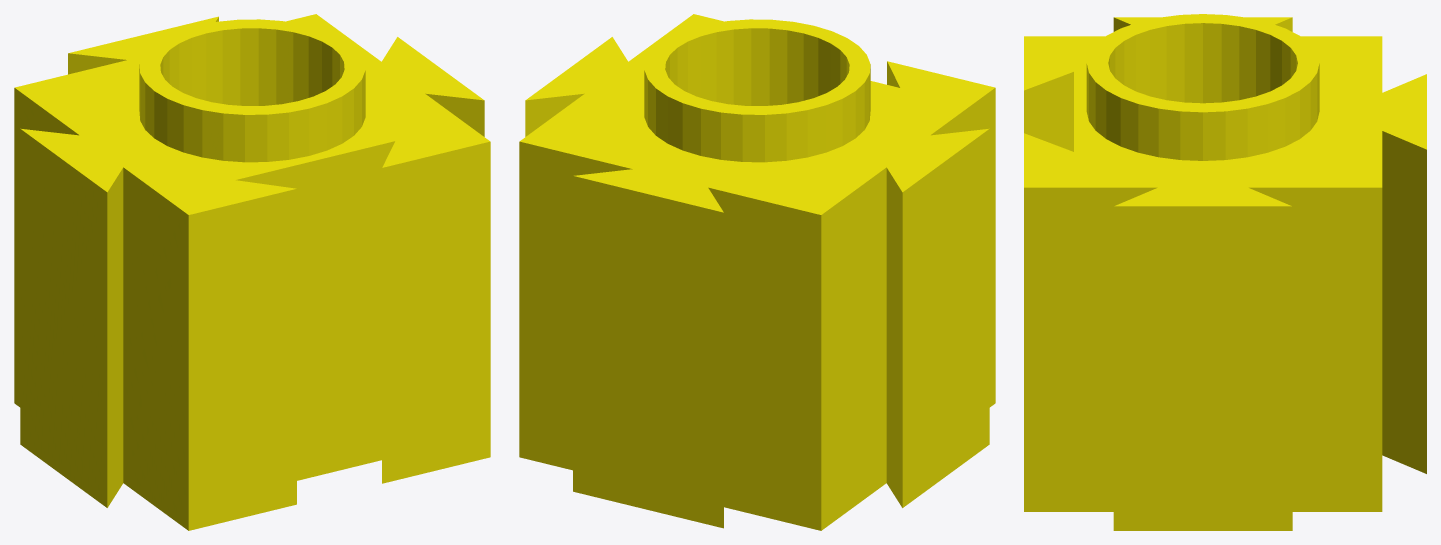
Rendered from yellowPLAEXSide.fbx.
The picture shows the model from 3 angles, left to right: view 1: azimuth 30°, elevation 25°; view 2: azimuth 150°, elevation 25°; view 3: azimuth 270°, elevation 25°; orthographic projection. The views are drawn at different scales.
Visible parts, largest first — view 1: PLAEXSide_2x2x2, TopStud_Hollow; view 2: PLAEXSide_2x2x2, TopStud_Hollow; view 3: PLAEXSide_2x2x2, TopStud_Hollow.
Part boxes in pixels (<box>): PLAEXSide_2x2x2: <box>14,14,490,530</box>; TopStud_Hollow: <box>139,19,365,162</box>; PLAEXSide_2x2x2: <box>519,14,995,530</box>; TopStud_Hollow: <box>644,19,870,162</box>; PLAEXSide_2x2x2: <box>1024,17,1426,530</box>; TopStud_Hollow: <box>1086,14,1319,160</box>.
Bounding box in the file's own units: 250 × 230 × 225.
